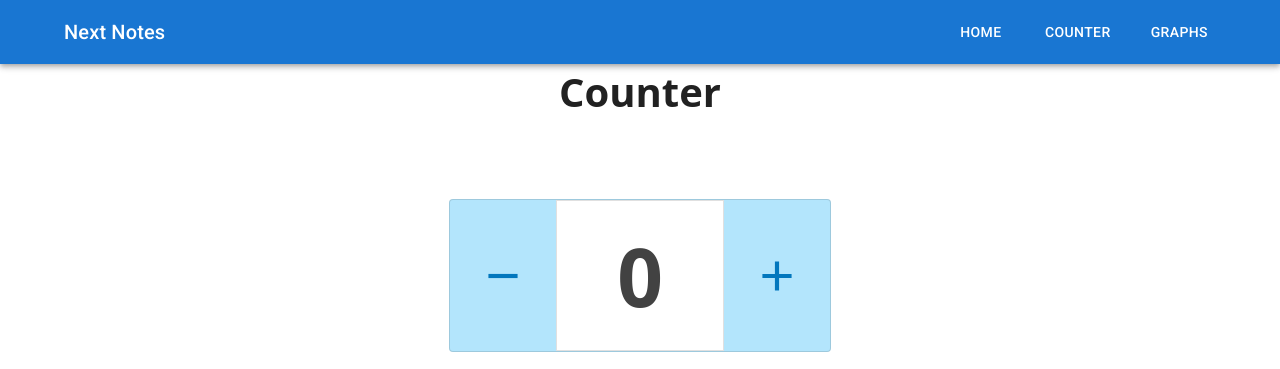
Test case: Counter Page Tests › Should increment count when the + button is clicked
Expected: the heading "Counter" is shown, [559,64,721,119]
Expected: the heading with test id "count" reads "0", [617,221,663,330]
# Click the increment button
Click the button with test id "increment-button" at (777,276), box [744,243,810,309]
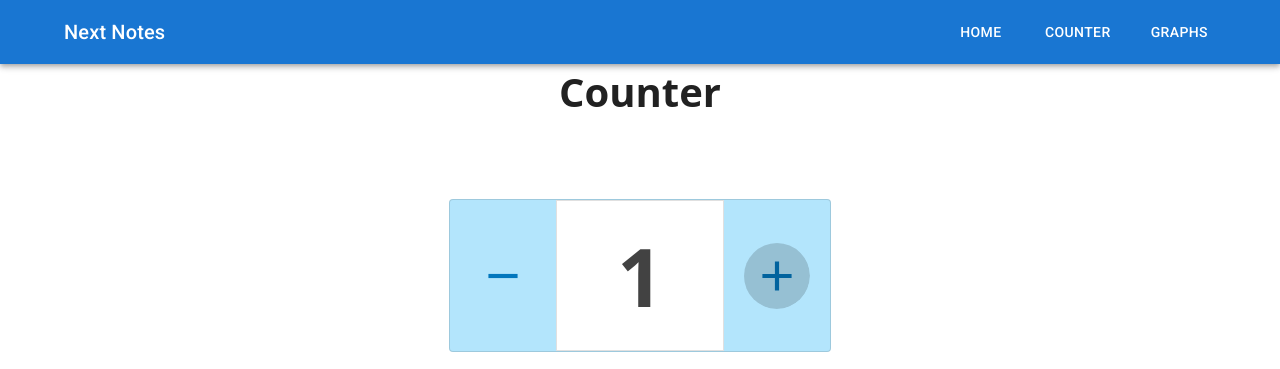
Expected: the heading with test id "count" reads "1", [617,221,663,330]
# Click the increment button x 2
Click the button with test id "increment-button" at (777,276), box [744,243,810,309]
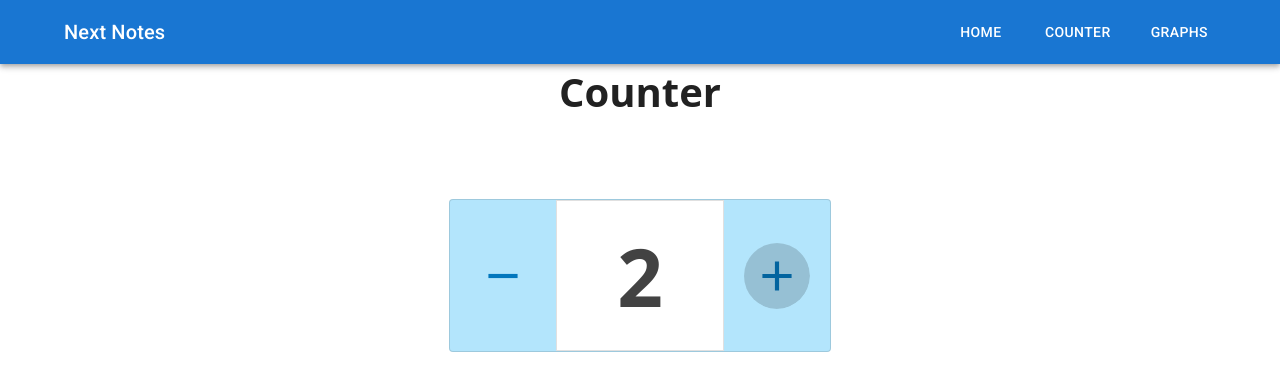
Click the button with test id "increment-button" at (777,276), box [744,243,810,309]
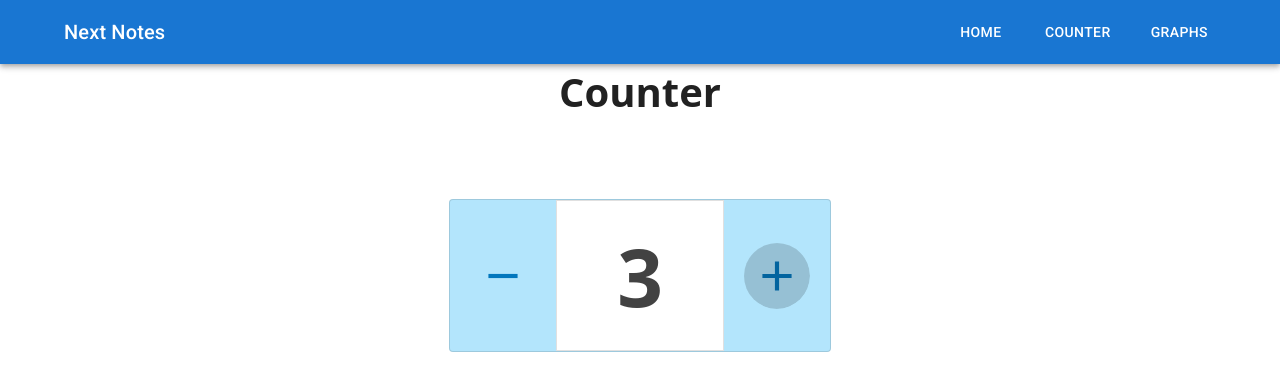
Expected: the heading with test id "count" reads "3", [617,221,663,330]
